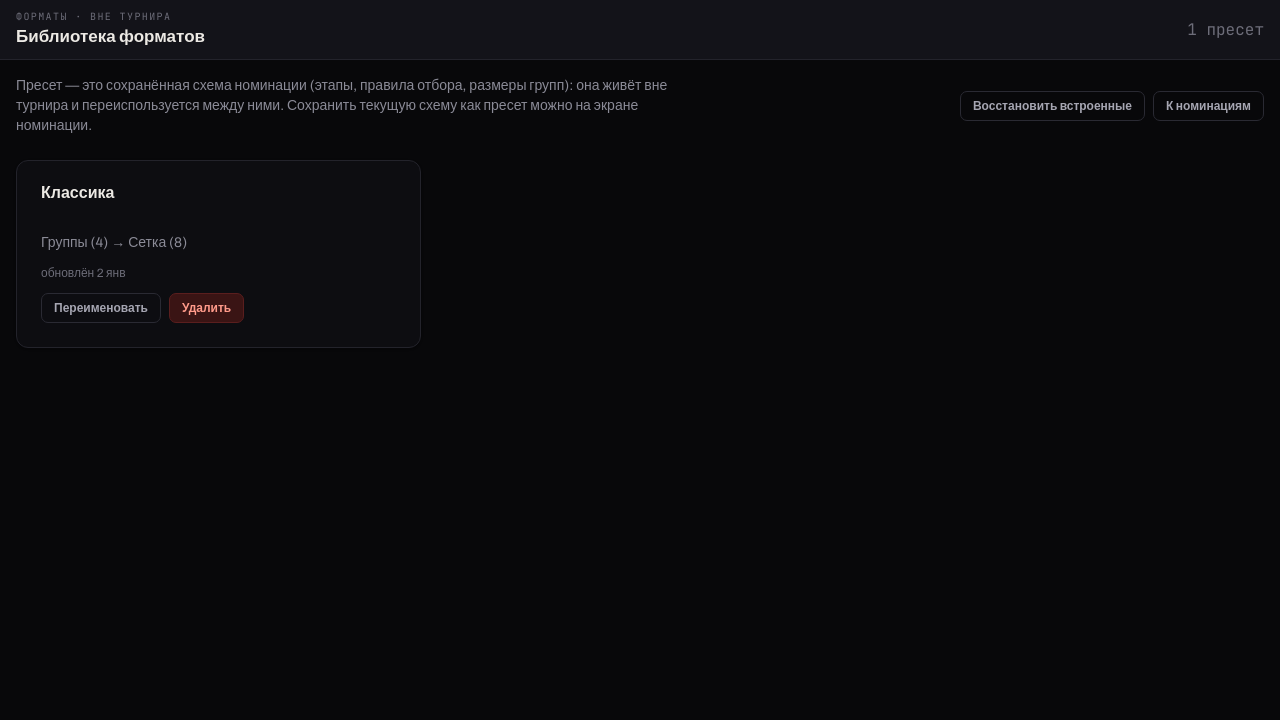
Test: PresetLibrary › opens the rename dialog for the chosen preset
The image size is (1280, 720).
Click the button "Переименовать" at (101, 308), box top-left (41, 293), bottom-right (161, 323)
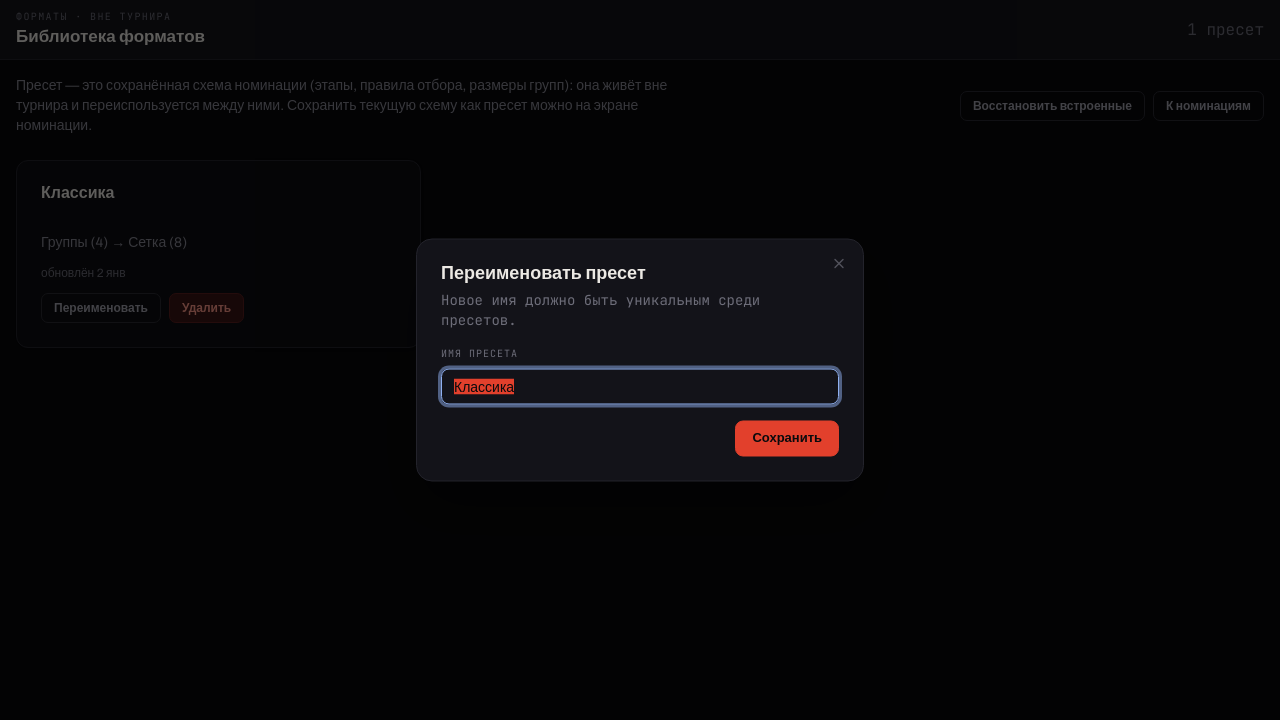
Expected: the dialog "Переименовать пресет" is shown, top-left (416, 238), bottom-right (864, 482)
Expected: the field labelled "Имя пресета" holds "Классика", top-left (441, 368), bottom-right (839, 404)
